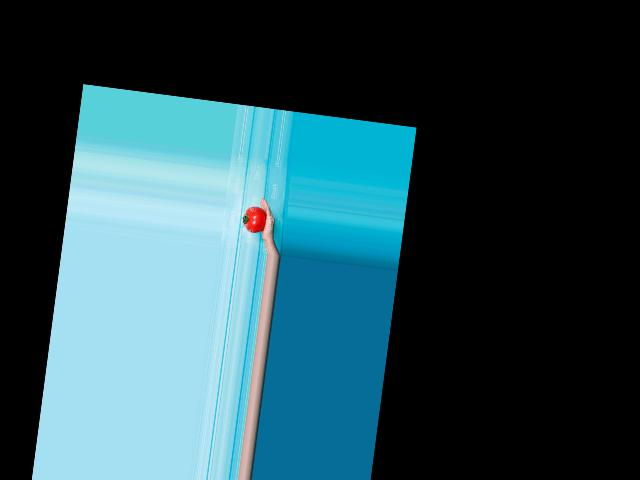tomato: (241, 204, 268, 233)
